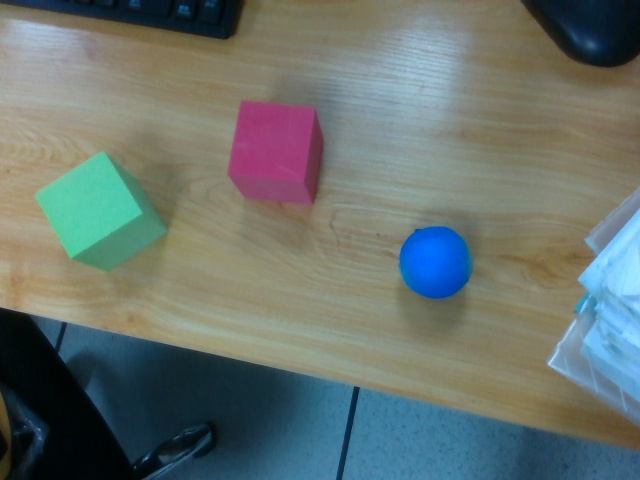blueball: (399, 221, 472, 296)
green: (32, 150, 166, 272)
red: (227, 95, 327, 206)
